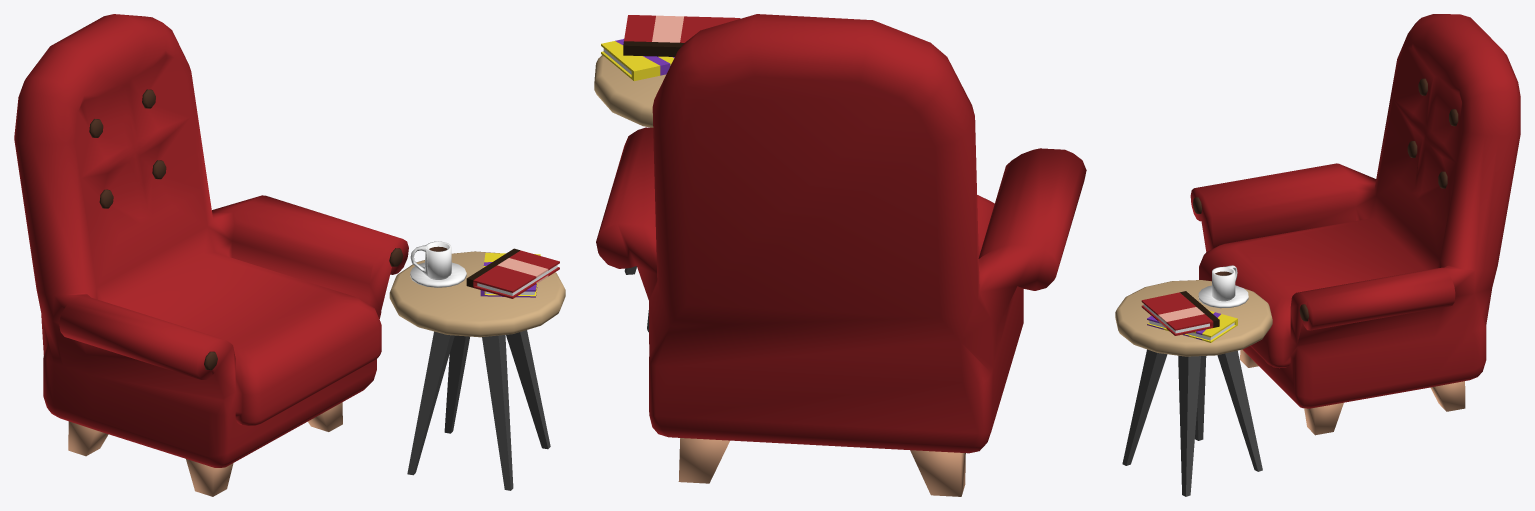
File: d-moebel-komp-2.glb
The picture shows the model from 3 angles, left to right: view 1: azimuth 30°, elevation 25°; view 2: azimuth 150°, elevation 25°; view 3: azimuth 270°, elevation 25°; orthographic projection. The views are drawn at different scales.
Parts seen in each view (by area): view 1: Cube.004; view 2: Cube.004; view 3: Cube.004.
Part boxes in pixels (x1,y1,x2,y2): Cube.004: (14, 14, 565, 496); Cube.004: (594, 14, 1086, 496); Cube.004: (1115, 14, 1520, 496).
Bounding box in the file's own units: 1.6 × 1.37 × 1.5.
Materials: 1 (1 with a texture image).
